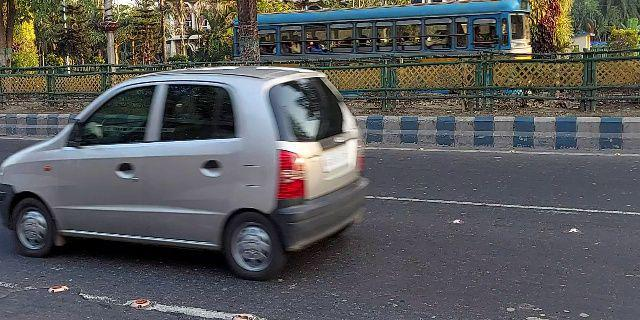Car: (1, 59, 374, 288)
